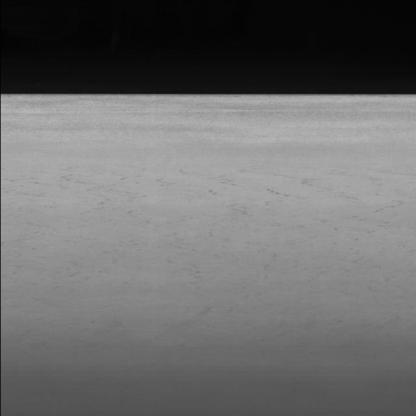silk_spot: (99, 173, 385, 285)
